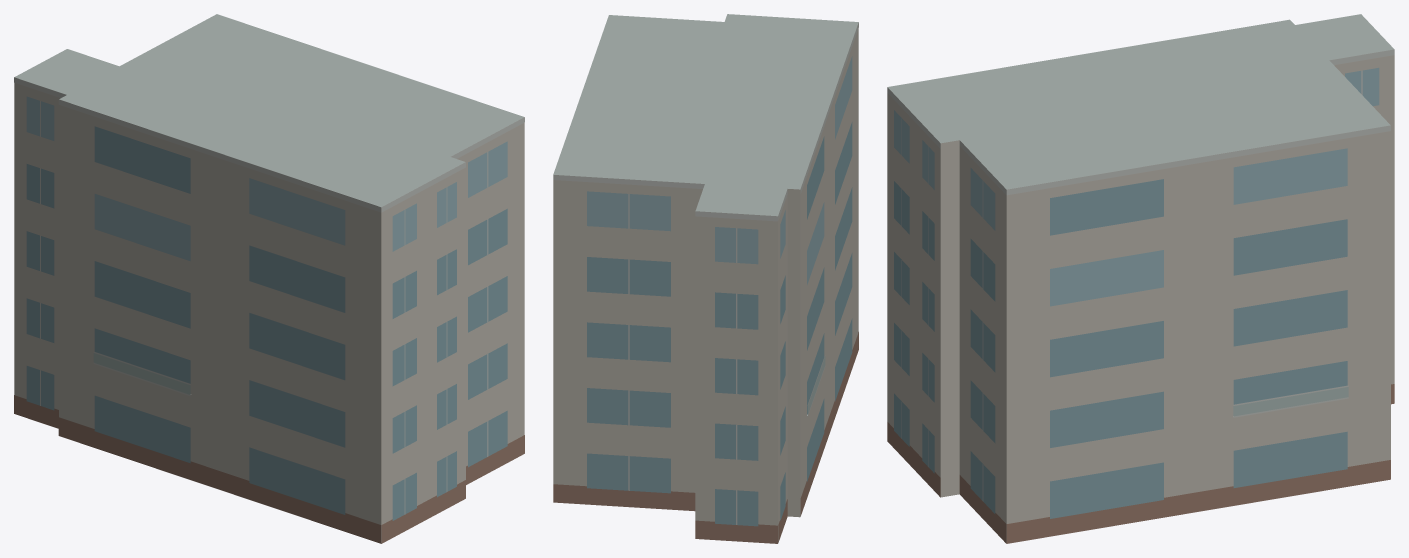
Rendered from survey-upis-32860300.glb.
3 renders of one model, left to right at view 1: azimuth 30°, elevation 25°; view 2: azimuth 150°, elevation 25°; view 3: azimuth 270°, elevation 25°, orthographic. The views are drawn at different scales.
Parts seen in each view (by area): view 1: survey-upis-32860300.tmp; view 2: survey-upis-32860300.tmp; view 3: survey-upis-32860300.tmp.
Part boxes in pixels (x1=…): survey-upis-32860300.tmp: x1=14, y1=14, x2=524, y2=543; survey-upis-32860300.tmp: x1=553, y1=14, x2=858, y2=543; survey-upis-32860300.tmp: x1=887, y1=14, x2=1394, y2=543.
Size of the model in its own units: 16.23 by 15.25 by 19.8.
